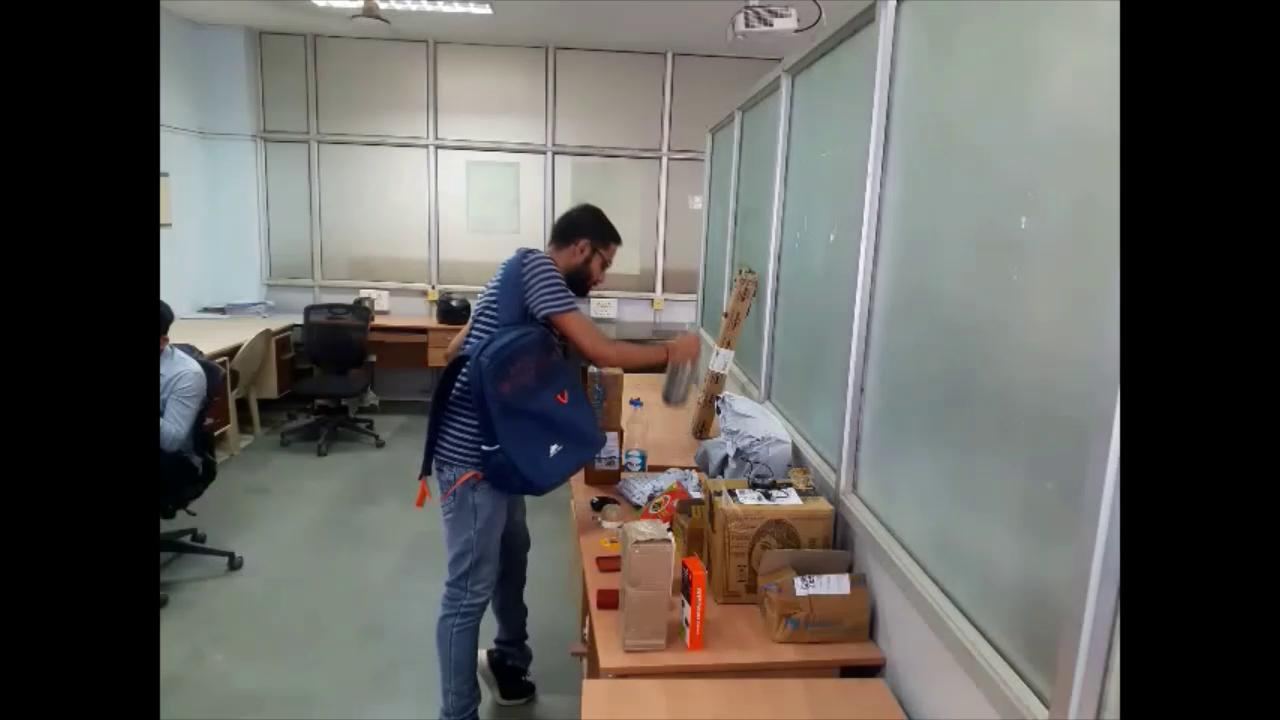Normal: (419, 175, 703, 720)
